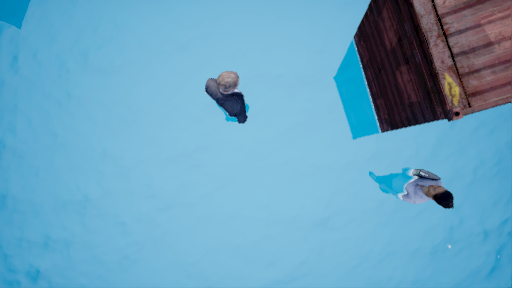person: (369, 164, 452, 215), (198, 70, 250, 124)
